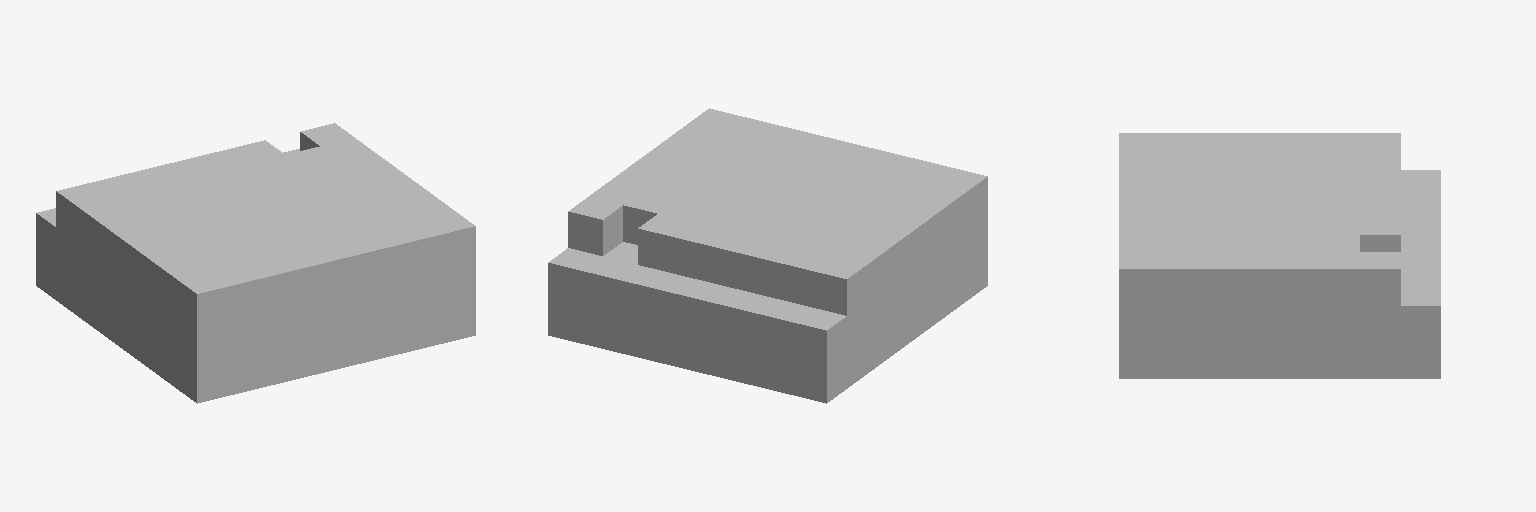
The model's file is Road Half 4.obj.
3 renders of one model, left to right at view 1: azimuth 30°, elevation 25°; view 2: azimuth 150°, elevation 25°; view 3: azimuth 270°, elevation 25°, orthographic.
Parts seen in each view (by area): view 1: object 1; view 2: object 1; view 3: object 1.
Boxes of the visible parts, x1,y1,x2,y2 form: object 1: [36, 123, 475, 403]; object 1: [548, 108, 987, 403]; object 1: [1119, 133, 1440, 378].
Bounding box in the file's own units: 0.8 × 0.3 × 0.8.